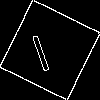I: (25, 25, 53, 73)
